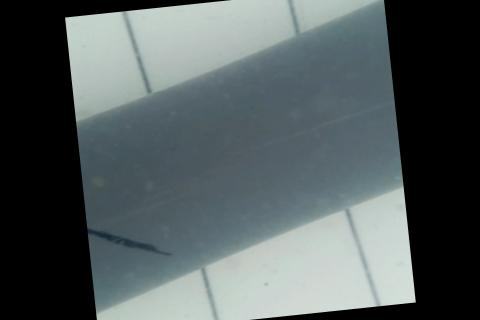keretakan: (85, 207, 176, 268)
